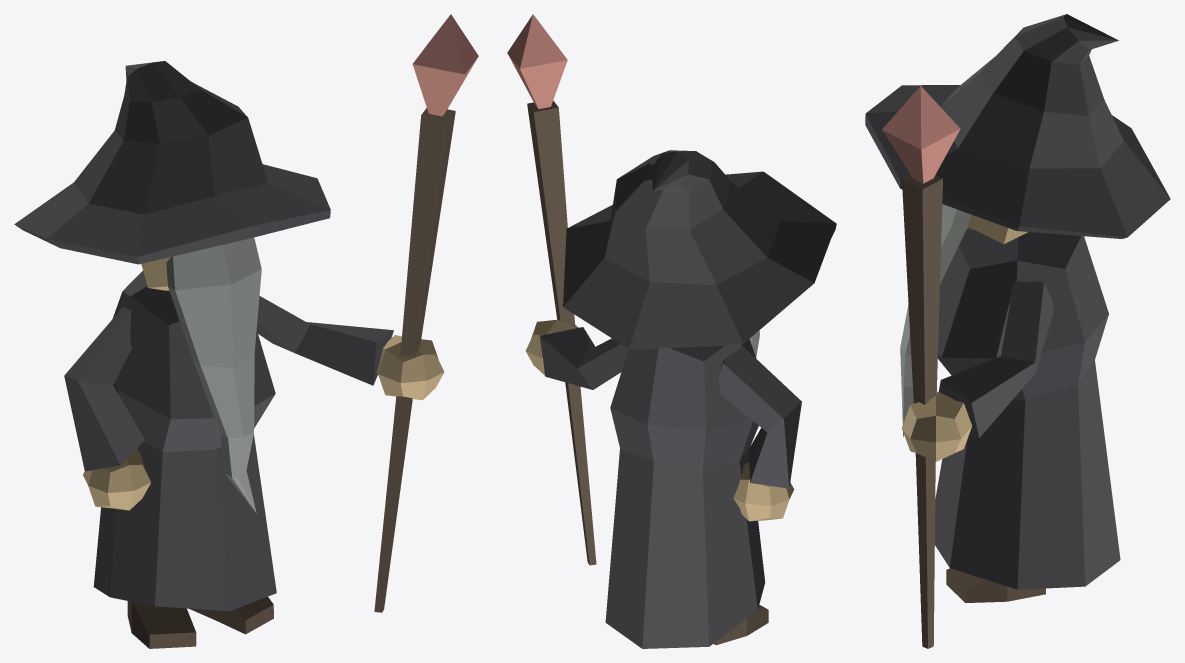
Rendered from wzrd.obj.
The picture shows the model from 3 angles, left to right: view 1: azimuth 30°, elevation 25°; view 2: azimuth 150°, elevation 25°; view 3: azimuth 270°, elevation 25°; orthographic projection. The views are drawn at different scales.
Visible parts, largest first — view 1: obj1; view 2: obj1; view 3: obj1.
Part boxes in pixels (x1,y1,x2,y2): obj1: (14, 14, 478, 648); obj1: (507, 14, 836, 648); obj1: (865, 14, 1170, 648).
Bounding box in the file's own units: 1.45 × 2.1 × 0.9773.
